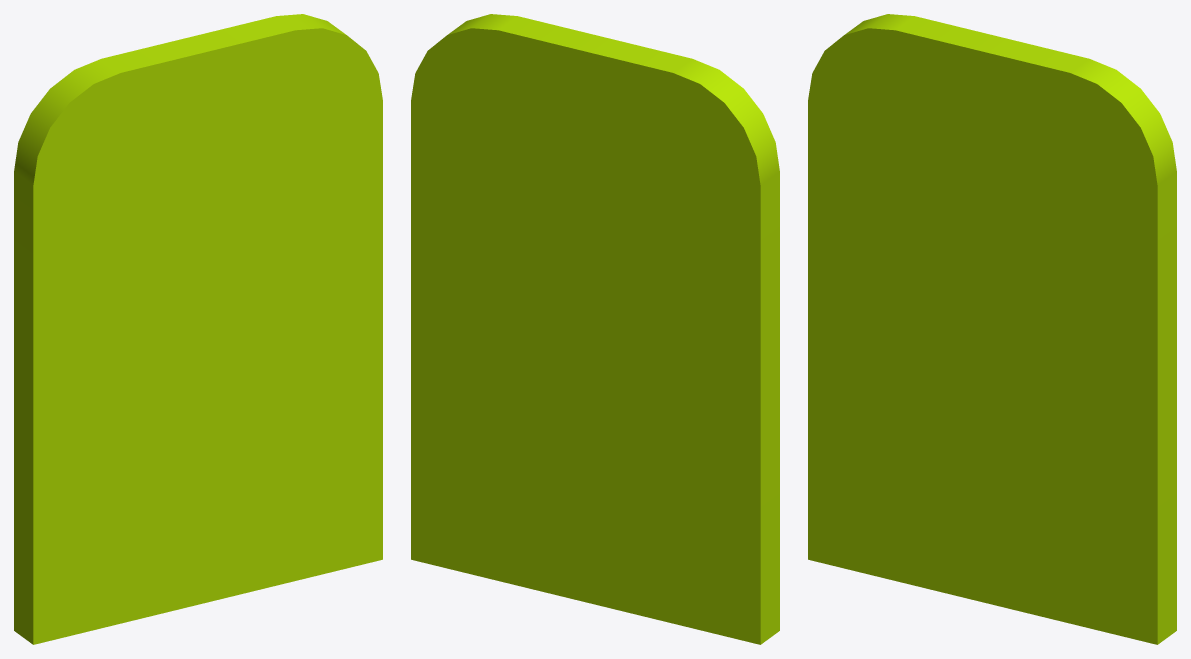
File: Door2.fbx
The picture shows the model from 3 angles, left to right: view 1: azimuth 30°, elevation 25°; view 2: azimuth 150°, elevation 25°; view 3: azimuth 330°, elevation 25°; orthographic projection.
Parts seen in each view (by area): view 1: pCube110; view 2: pCube110; view 3: pCube110.
Boxes of the visible parts, x1,y1,x2,y2 form: pCube110: (14, 14, 382, 644); pCube110: (411, 14, 779, 644); pCube110: (808, 14, 1176, 644).
Bounding box in the file's own units: 31.52 × 47.45 × 3.03.
